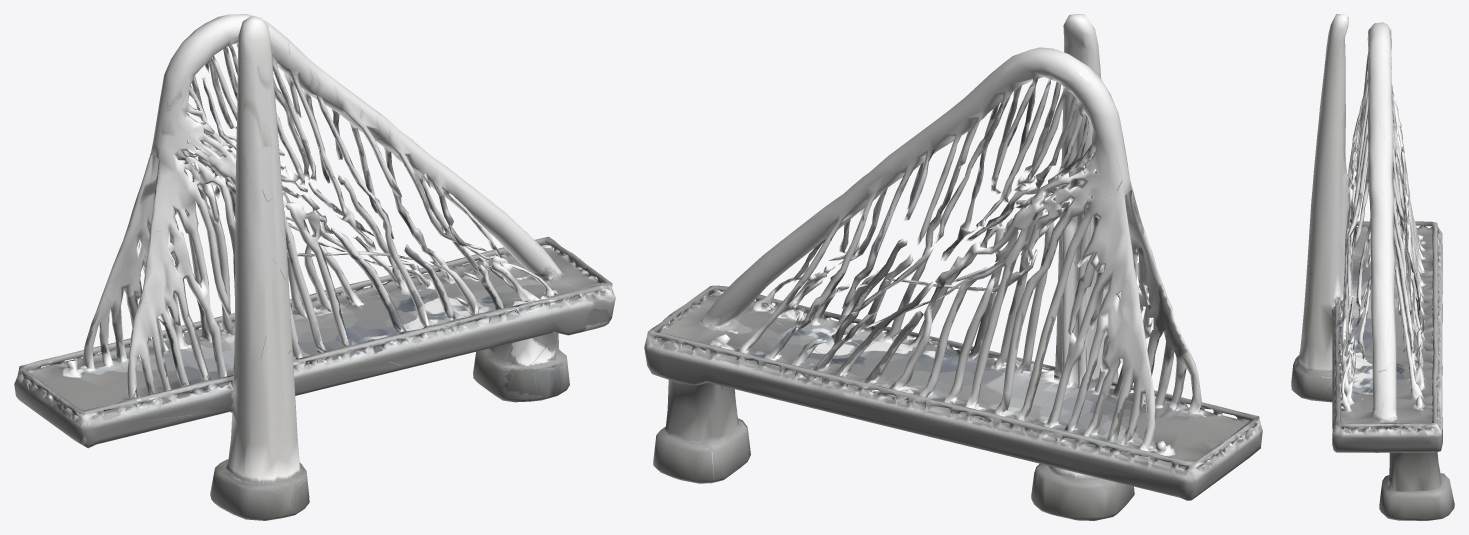
The model's file is margaret-hunt-hill-bridge.glb.
The picture shows the model from 3 angles, left to right: view 1: azimuth 30°, elevation 25°; view 2: azimuth 150°, elevation 25°; view 3: azimuth 270°, elevation 25°; orthographic projection. The views are drawn at different scales.
Visible parts, largest first — view 1: geometry_0; view 2: geometry_0; view 3: geometry_0.
Part boxes in pixels (x1,y1,x2,y2): geometry_0: (14, 14, 615, 520); geometry_0: (644, 14, 1262, 520); geometry_0: (1291, 14, 1454, 520).
Bounding box in the file's own units: 2 × 1.7 × 0.6714.
Materials: 1 (1 with a texture image).
